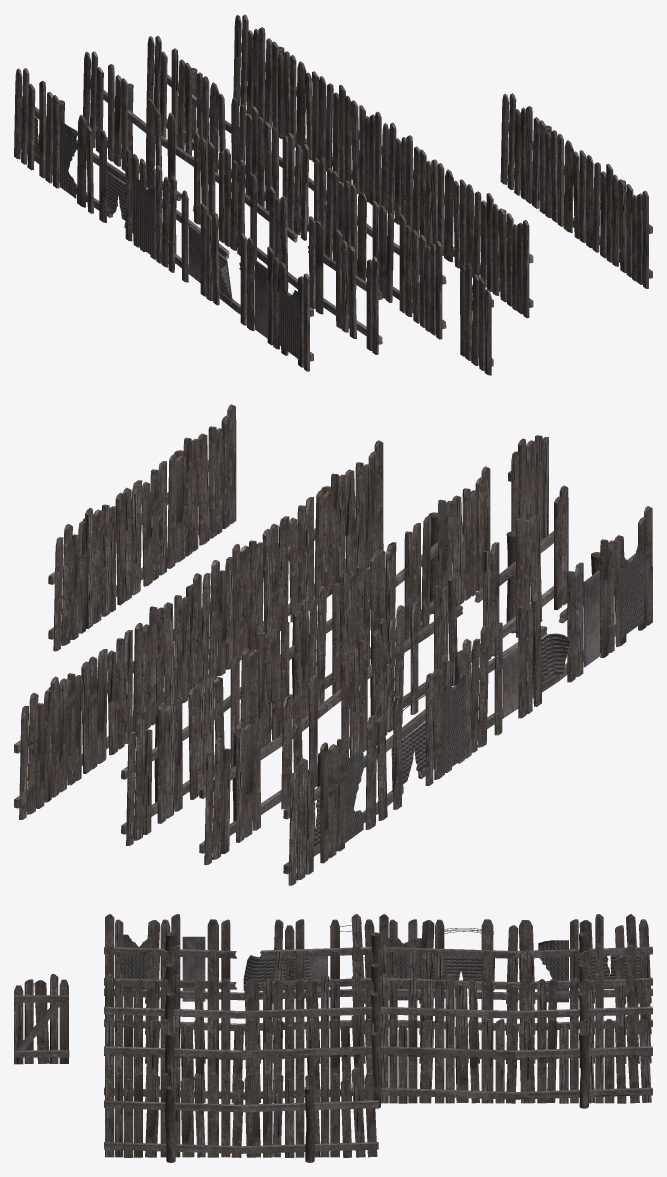
Rendered from Fence.obj.
3 renders of one model, top to bottom at view 1: azimuth 30°, elevation 25°; view 2: azimuth 150°, elevation 25°; view 3: azimuth 270°, elevation 25°, orthographic. The views are drawn at different scales.
Parts seen in each view (by area): view 1: Cube.2_1, Cube.2_2, Cube.2_5, Cube.2_3, Cube.1_1, Extrude_NURBS, Cube.1, Cube.1_4, Cube.2_4, Cube.1_5, Cube.1_3; view 2: Cube.2_1, Cube.2_2, Cube.2_5, Cube.2_3, Cube.1_1, Extrude_NURBS, Cube.1, Cube.1_4, Cube.2_4, Cube.1_5, Cube.1_3, Cylinder.4_3 (+1 smaller); view 3: Cube.2_1, Cube.1_1, Cube.2_2, Cube.2_5, Cube.2_3, Cube.1_2, Extrude_NURBS, Cube.1_3, Cube.1_5, Cube.2, Cube.1, Cube.1_4 (+7 smaller).
Part boxes in pixels (x1,y1,x2,y2): Cube.2_1: (233, 14, 529, 318); Cube.2_2: (146, 36, 442, 339); Cube.2_5: (14, 68, 309, 371); Cube.2_3: (83, 51, 378, 354); Cube.1_1: (500, 93, 648, 288); Extrude_NURBS: (21, 107, 299, 359); Cube.1: (460, 263, 491, 375); Cube.1_4: (89, 79, 382, 344); Cube.2_4: (189, 225, 267, 338); Cube.1_5: (15, 95, 313, 361); Cube.1_3: (154, 64, 446, 328); Cube.2_1: (19, 440, 383, 819); Cube.2_2: (126, 466, 490, 845); Cube.2_5: (288, 506, 652, 885); Cube.2_3: (204, 485, 568, 864); Cube.1_1: (53, 404, 236, 651); Extrude_NURBS: (296, 539, 643, 858); Cube.1: (511, 435, 548, 540); Cube.1_4: (199, 531, 553, 853); Cube.2_4: (502, 571, 599, 718); Cube.1_5: (283, 553, 635, 874); Cube.1_3: (121, 522, 462, 834); Cylinder.4_3: (232, 531, 515, 832); Cube.2_1: (105, 1013, 651, 1103); Cube.1_1: (105, 1067, 377, 1157); Cube.2_2: (105, 974, 651, 1063); Cube.2_5: (105, 914, 651, 1003); Cube.2_3: (105, 945, 651, 1035); Cube.1_2: (104, 1046, 652, 1099); Extrude_NURBS: (123, 934, 639, 1002); Cube.1_3: (104, 1006, 652, 1059); Cube.1_5: (104, 946, 652, 1000); Cube.2: (104, 1100, 378, 1153); Cube.1: (14, 974, 68, 1064); Cube.1_4: (104, 977, 652, 1031).
Size of the model in its own units: 1702 by 430 by 2792.
Materials: 7 (7 with a texture image).
